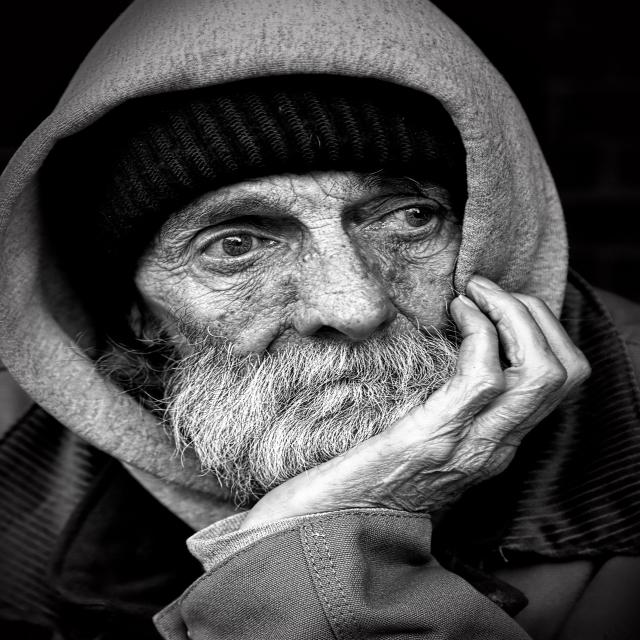front: (150, 172, 470, 424)
